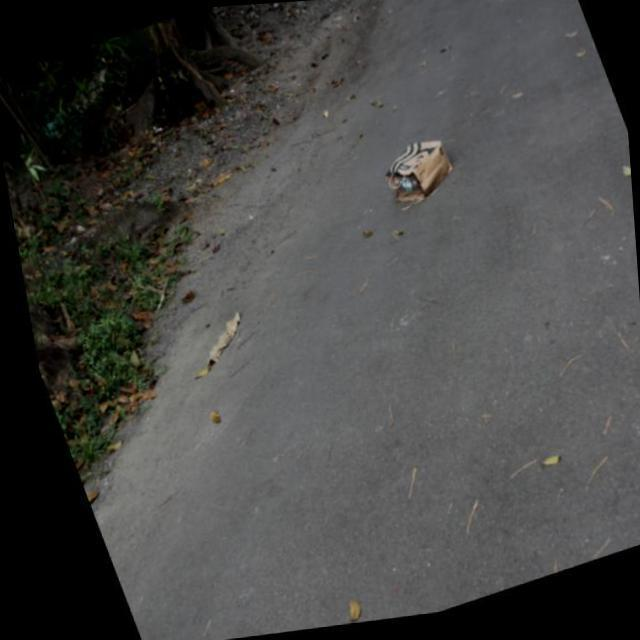Paper_Bag: (371, 137, 459, 219)
